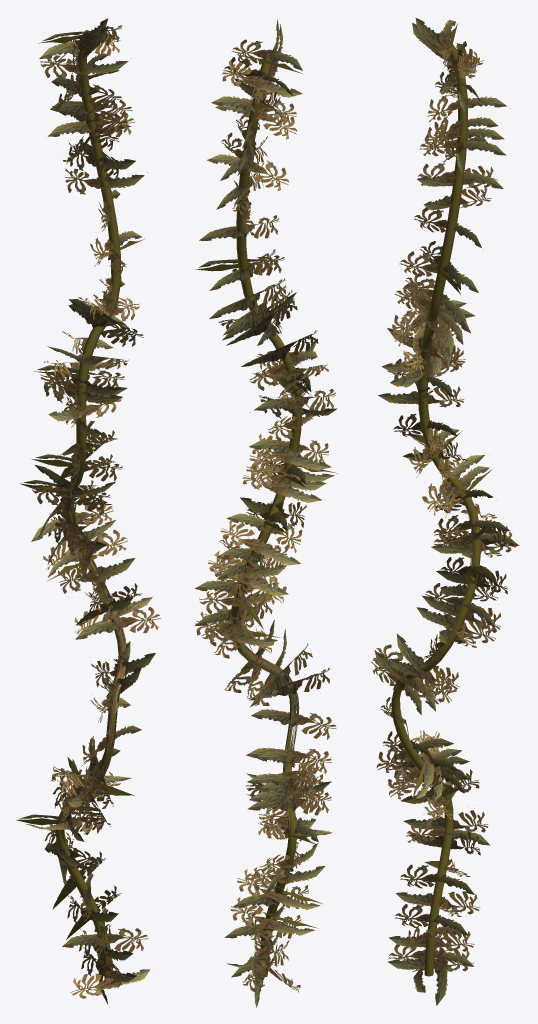
File: Seaweed1.obj
The picture shows the model from 3 angles, left to right: view 1: azimuth 30°, elevation 25°; view 2: azimuth 150°, elevation 25°; view 3: azimuth 270°, elevation 25°; orthographic projection.
Visible parts, largest first — view 1: Seaweed1; view 2: Seaweed1; view 3: Seaweed1.
Boxes of the visible parts, left/top/right/bottom form: Seaweed1: left=16, top=18, right=160, bottom=1004; Seaweed1: left=195, top=19, right=337, bottom=1007; Seaweed1: left=370, top=18, right=519, bottom=1005.
Size of the model in its own units: 1.58 by 11.05 by 1.56.
Materials: 1 (1 with a texture image).
